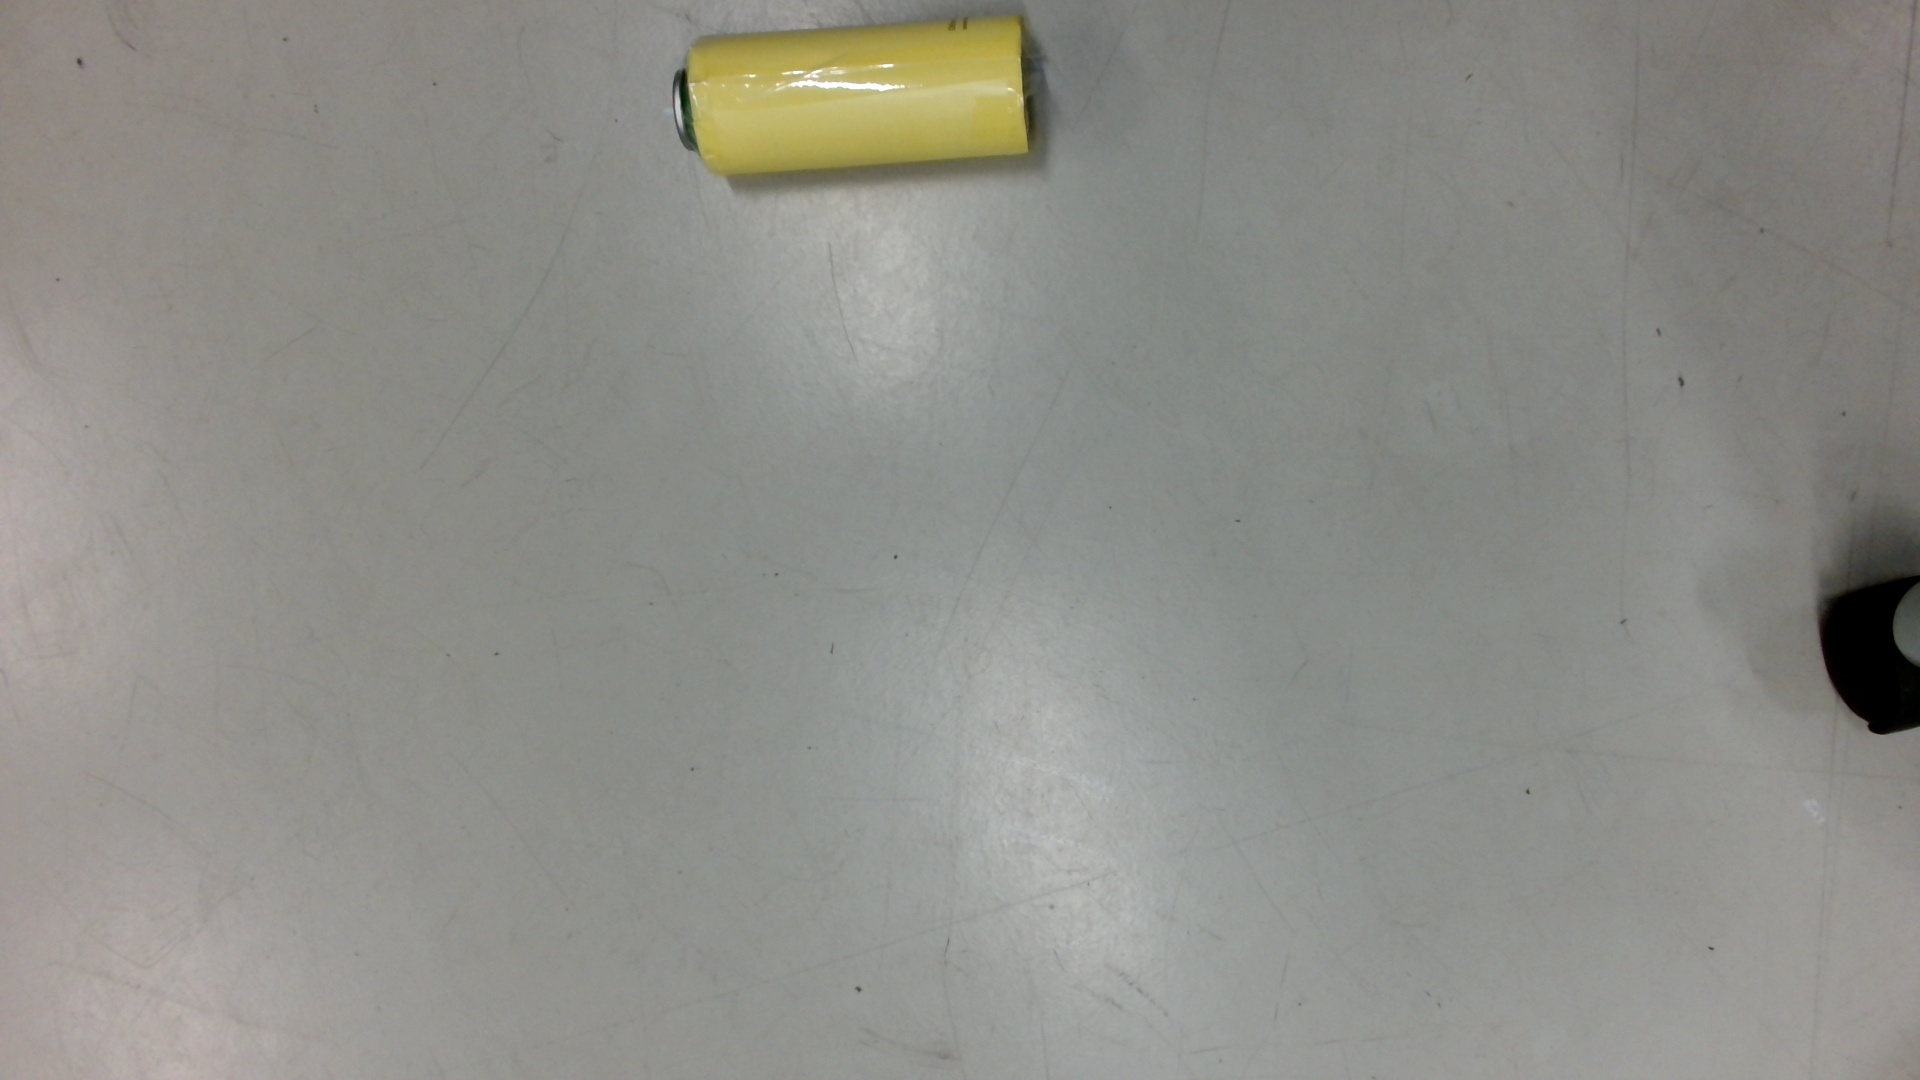Cylinder: (653, 7, 1068, 191)
